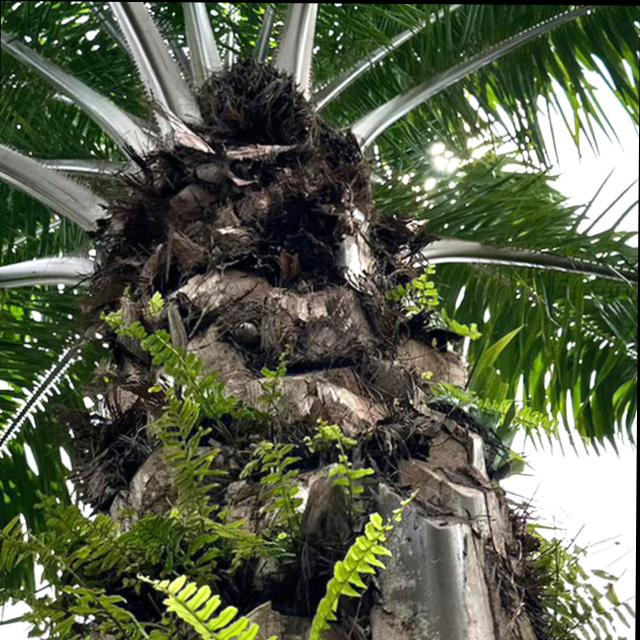almost: (191, 48, 317, 155)
